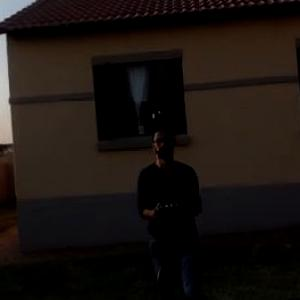follow: (133, 115, 208, 299)
